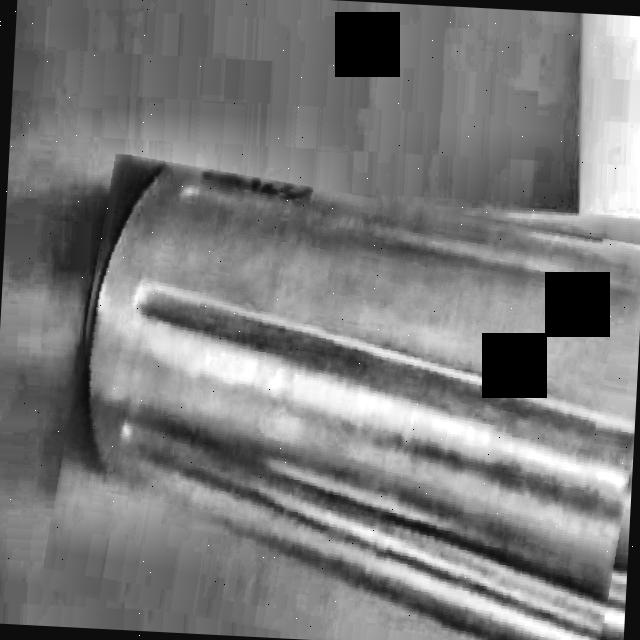bottle: (78, 164, 640, 640)
